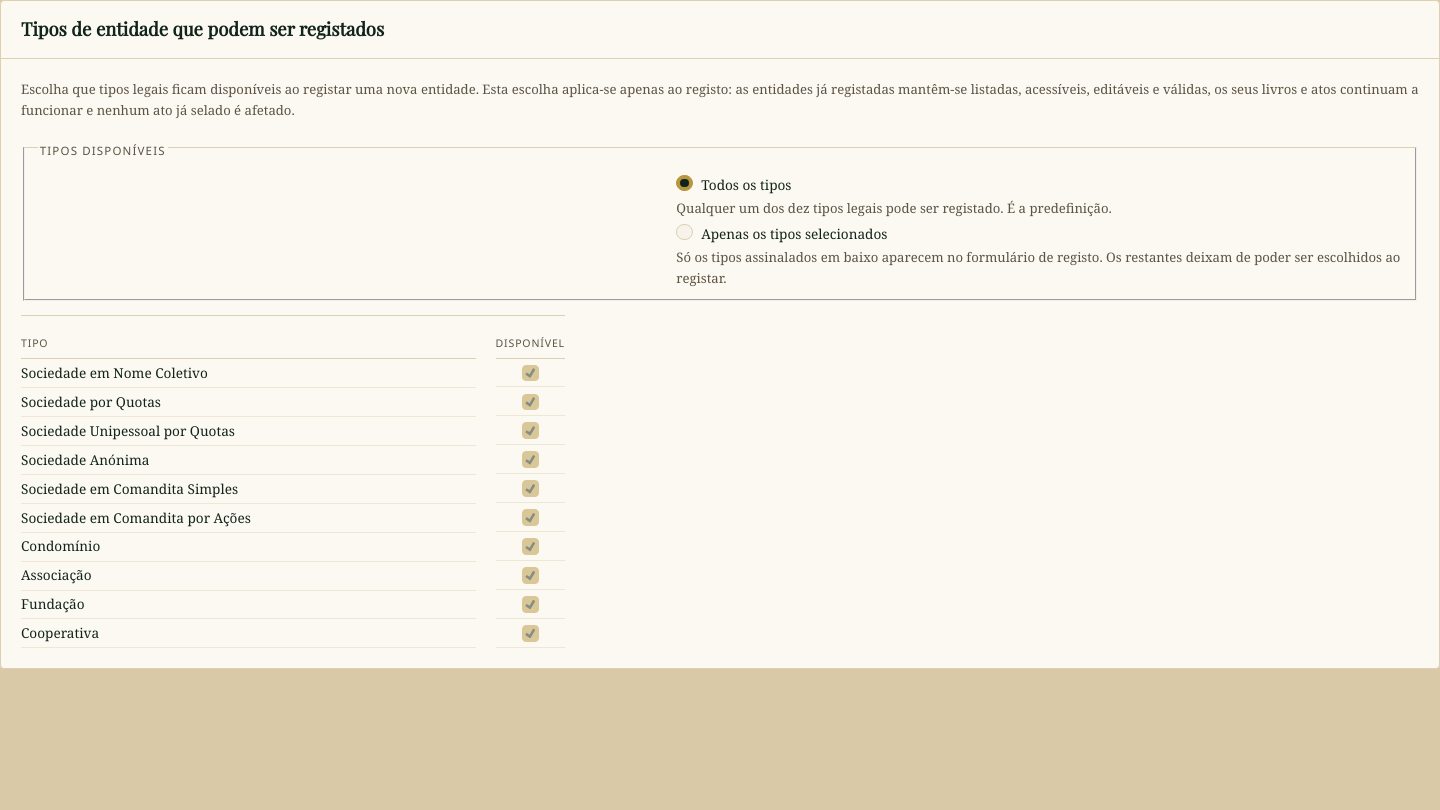
Test: EntityKindsSection — "todos os tipos" is a named state › narrows to an explicit ten-item list — never [] — when "apenas os selecionados" is chosen
This screenshot has width=1440, height=810.
Step 1. Click the radio button labelled "Apenas os tipos selecionados" → (685, 232), box [676, 224, 693, 240]
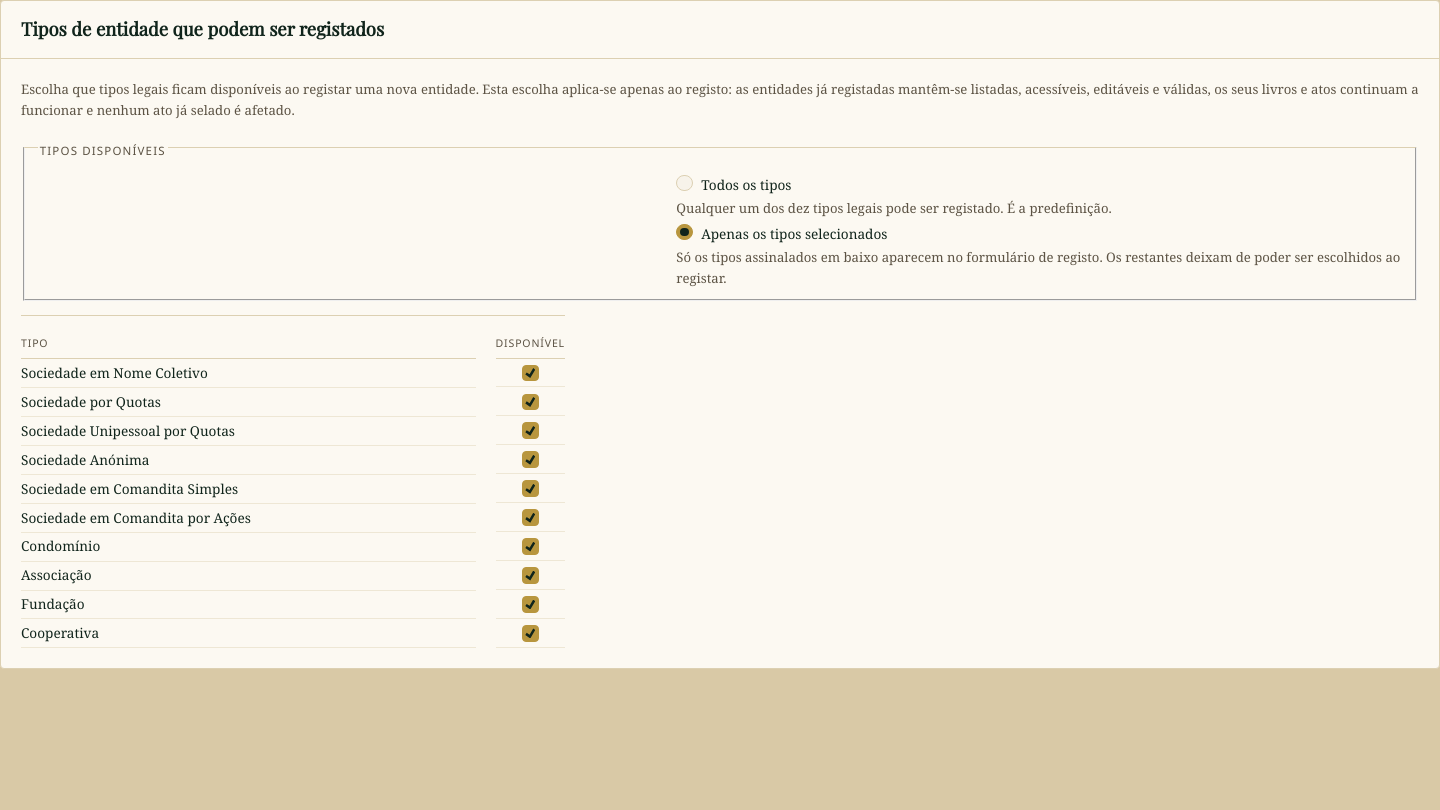
Result: the checkbox labelled "Condomínio" is enabled at [522, 538, 539, 555]
